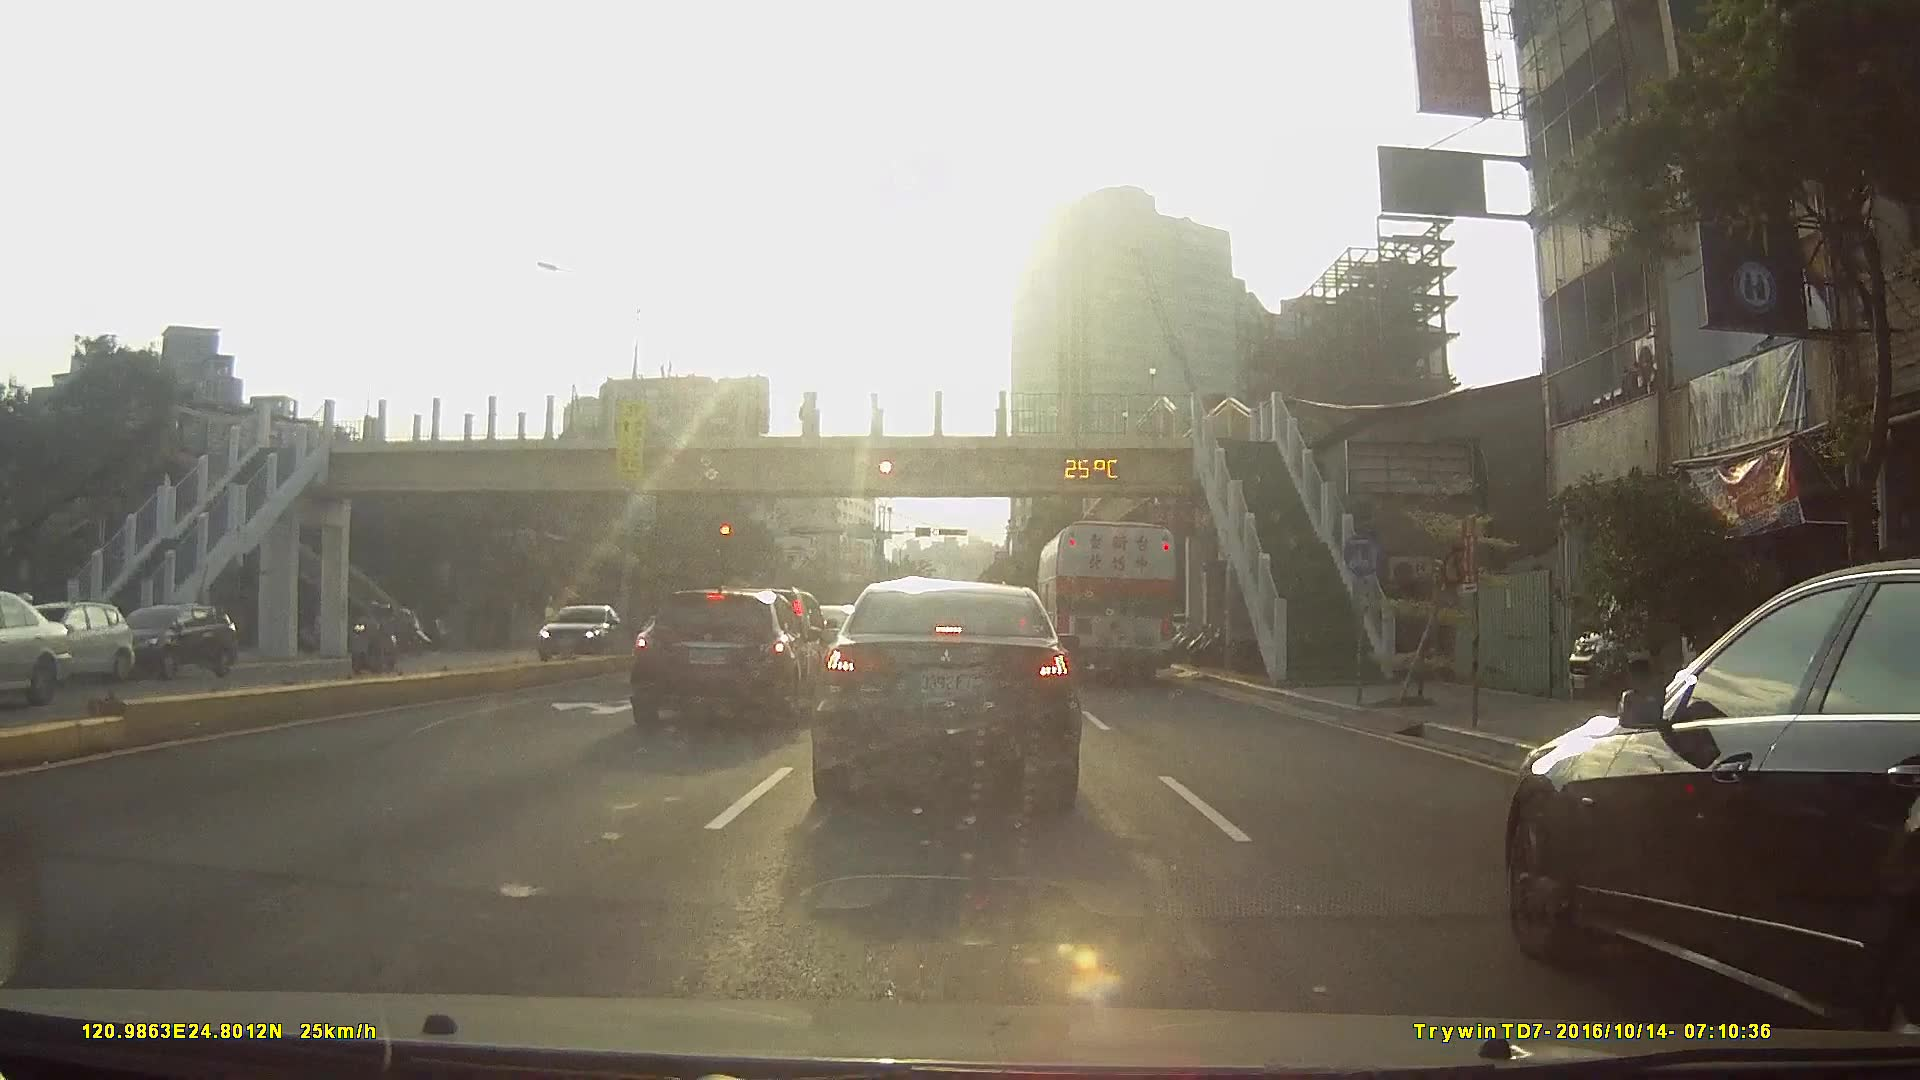pedestrian: (800, 393, 822, 441)
rider: (349, 595, 397, 678)
vehicle: (1496, 558, 1920, 1050), (808, 578, 1082, 808), (624, 585, 823, 732), (1037, 519, 1180, 686), (2, 598, 131, 687), (102, 601, 234, 679), (0, 595, 54, 714), (528, 605, 623, 661)
